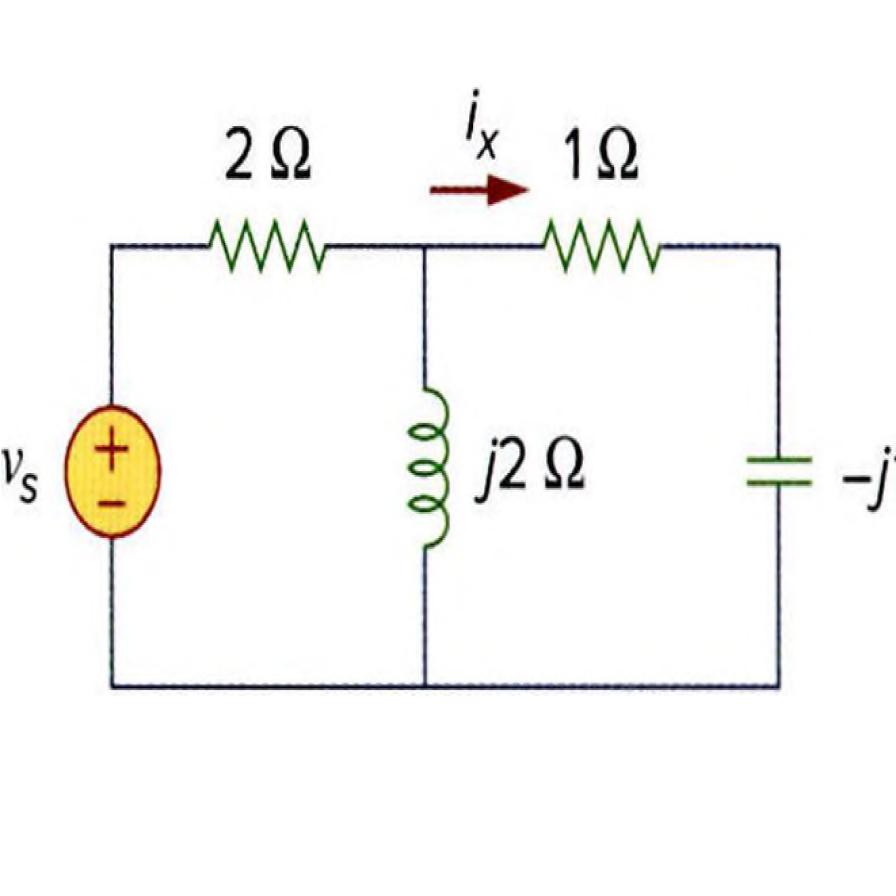C2: (740, 416, 817, 514)
L2: (402, 371, 460, 567)
